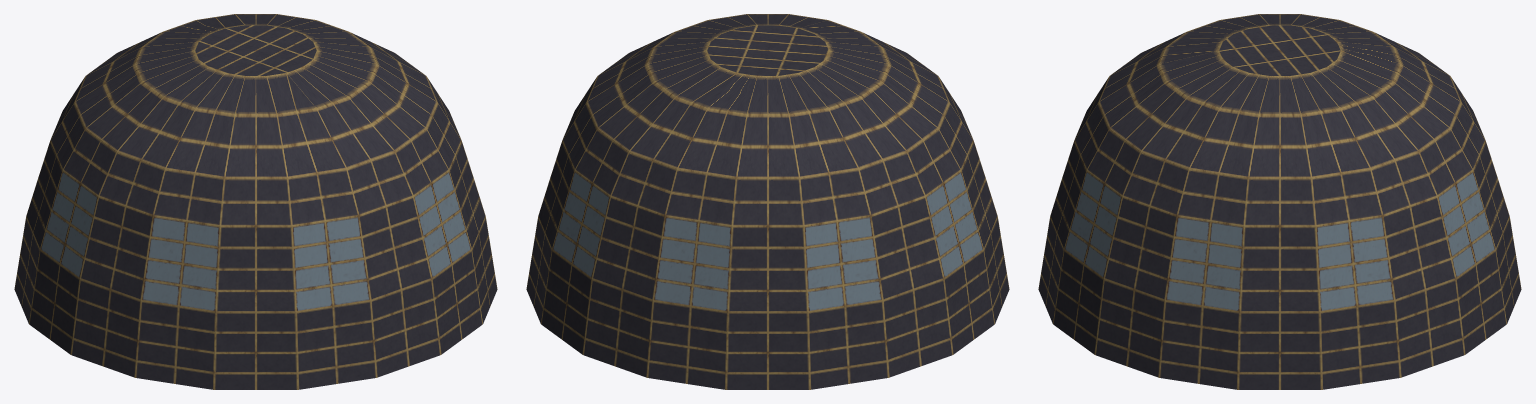
The model's file is Dome.fbx.
3 renders of one model, left to right at view 1: azimuth 30°, elevation 25°; view 2: azimuth 150°, elevation 25°; view 3: azimuth 270°, elevation 25°, orthographic.
Visible parts, largest first — view 1: Cylinder.006; view 2: Cylinder.006; view 3: Cylinder.006.
Part boxes in pixels (bbox=[...]): Cylinder.006: bbox=[14, 14, 497, 389]; Cylinder.006: bbox=[526, 14, 1009, 389]; Cylinder.006: bbox=[1038, 14, 1521, 389].
Size of the model in its own units: 1970 by 1091 by 2000.
